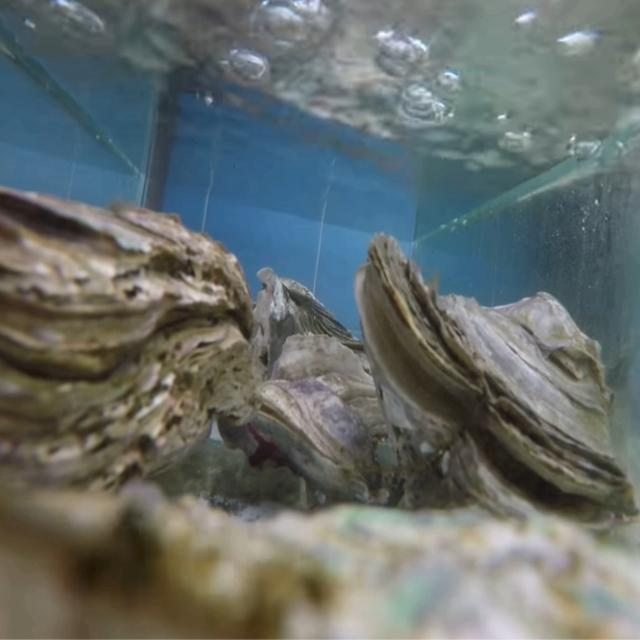Oyster-Closed: (0, 185, 256, 515), (251, 334, 408, 508)
Oyster-Indeterminate: (0, 481, 640, 640), (252, 266, 368, 383)
Oyster-Open: (355, 234, 640, 544)
